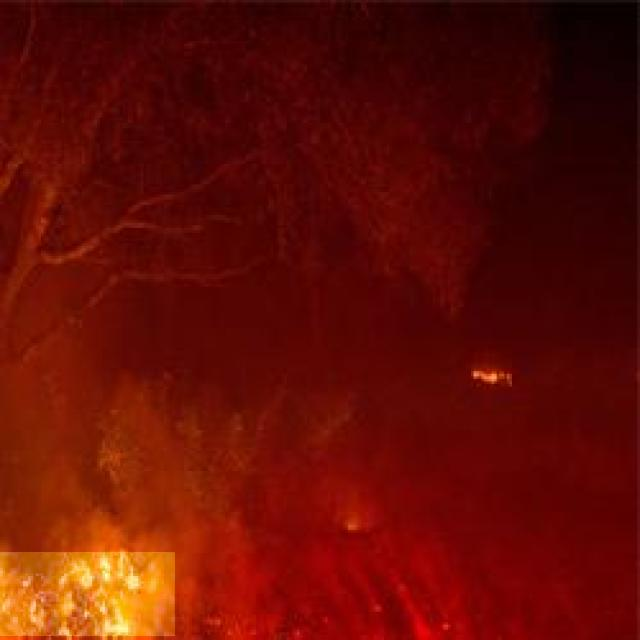Fire: (0, 552, 175, 636)
